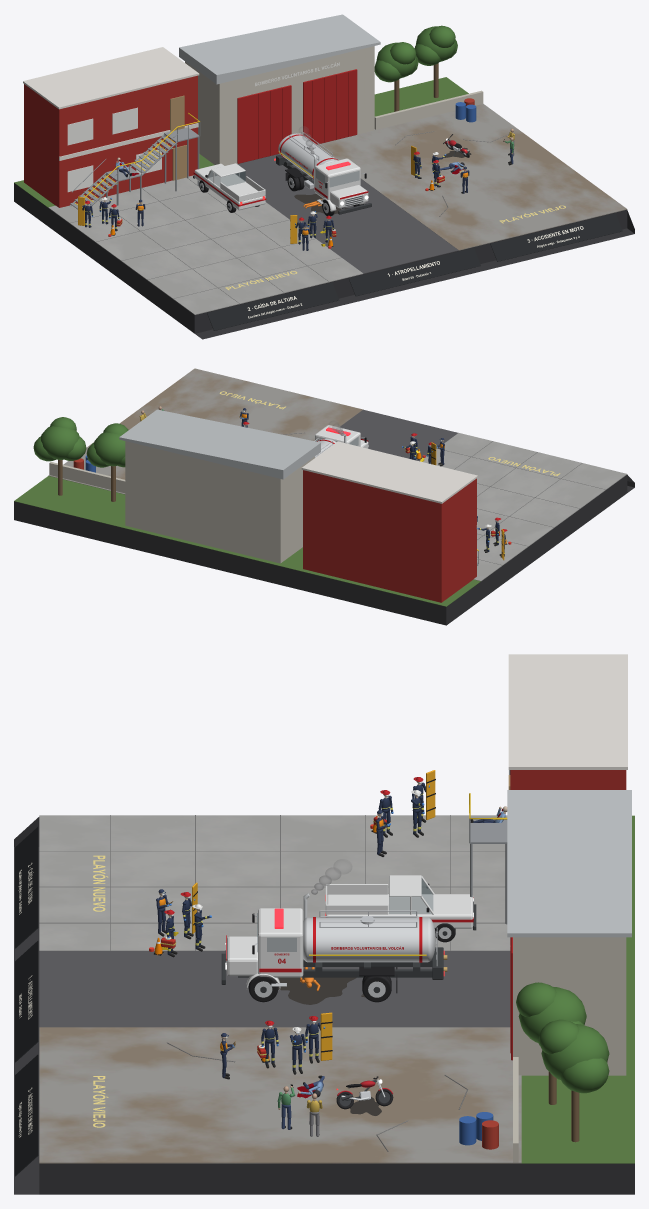
The model's file is escena.glb.
3 views of the same model, one above another, from view 1: azimuth 30°, elevation 25°; view 2: azimuth 150°, elevation 25°; view 3: azimuth 270°, elevation 25° (orthographic). The views are drawn at different scales.
Parts seen in each view (by area): view 1: Playón viejo · hormigón gastado, Playón nuevo · hormigón, Edificio de aulas, Calle interna · asfalto, Galpón · muros de bloque, Galpón · cubierta de chapa, Edificio · cornisa, Base de la maqueta, Galpón · portón rojo, Galpón · portón rojo.001, Frente inclinado para carteles, Placa · 2 · CAÍDA DE ALTURA (+18 smaller); view 2: Edificio de aulas, Galpón · muros de bloque, Playón nuevo · hormigón, Base de la maqueta, Playón viejo · hormigón gastado, Galpón · cubierta de chapa, Edificio · cornisa, Fondo · pasto, Calle interna · asfalto, Murito del playón viejo, Árbol · copa.004, Árbol · copa (+1 smaller); view 3: Playón viejo · hormigón gastado, Playón nuevo · hormigón, Calle interna · asfalto, Base de la maqueta, Galpón · cubierta de chapa, Edificio · cornisa, Fondo · pasto, Galpón · muros de bloque, Cisterna · cuerpo, Carrocería inferior, Cabina, Frente inclinado para carteles (+14 smaller).
Boxes of the visible parts, x1,y1,x2,y2 form: Playón viejo · hormigón gastado: [317, 104, 627, 250]; Playón nuevo · hormigón: [48, 175, 363, 314]; Edificio de aulas: [24, 75, 197, 207]; Calle interna · asfalto: [236, 153, 458, 273]; Galpón · muros de bloque: [185, 46, 374, 165]; Galpón · cubierta de chapa: [179, 14, 380, 84]; Edificio · cornisa: [23, 47, 199, 109]; Base de la maqueta: [14, 183, 627, 333]; Galpón · portón rojo: [237, 85, 291, 163]; Galpón · portón rojo.001: [303, 69, 357, 144]; Frente inclinado para carteles: [195, 210, 634, 339]; Placa · 2 · CAÍDA DE ALTURA: [207, 282, 339, 330]; Edificio de aulas: [303, 470, 476, 602]; Galpón · muros de bloque: [125, 441, 314, 563]; Playón nuevo · hormigón: [423, 433, 627, 581]; Base de la maqueta: [14, 475, 627, 625]; Playón viejo · hormigón gastado: [48, 368, 362, 494]; Galpón · cubierta de chapa: [119, 409, 320, 479]; Edificio · cornisa: [301, 441, 477, 503]; Fondo · pasto: [14, 476, 480, 606]; Calle interna · asfalto: [339, 409, 457, 461]; Murito del playón viejo: [49, 462, 125, 493]; Árbol · copa.004: [41, 426, 79, 459]; Árbol · copa: [94, 432, 125, 466]; Playón viejo · hormigón gastado: [39, 1027, 521, 1163]; Playón nuevo · hormigón: [39, 815, 510, 950]; Calle interna · asfalto: [39, 951, 510, 1027]; Base de la maqueta: [39, 1163, 634, 1194]; Galpón · cubierta de chapa: [507, 790, 631, 937]; Edificio · cornisa: [508, 654, 627, 769]; Fondo · pasto: [521, 815, 634, 1163]; Galpón · muros de bloque: [513, 937, 626, 1075]; Cisterna · cuerpo: [307, 917, 427, 962]; Carrocería inferior: [326, 894, 473, 928]; Cabina: [258, 908, 303, 977]; Frente inclinado para carteles: [14, 817, 39, 1194].
Size of the model in its own units: 29 by 7.71 by 21.9.
73 materials, 2 textured.
